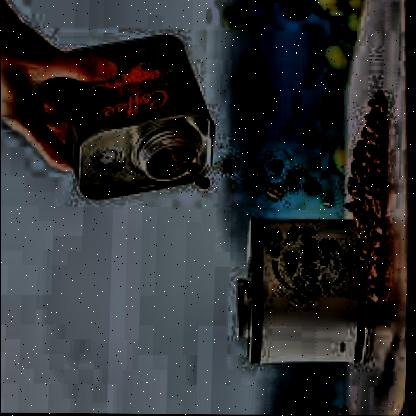Can: (48, 32, 223, 202), (230, 212, 379, 368)
